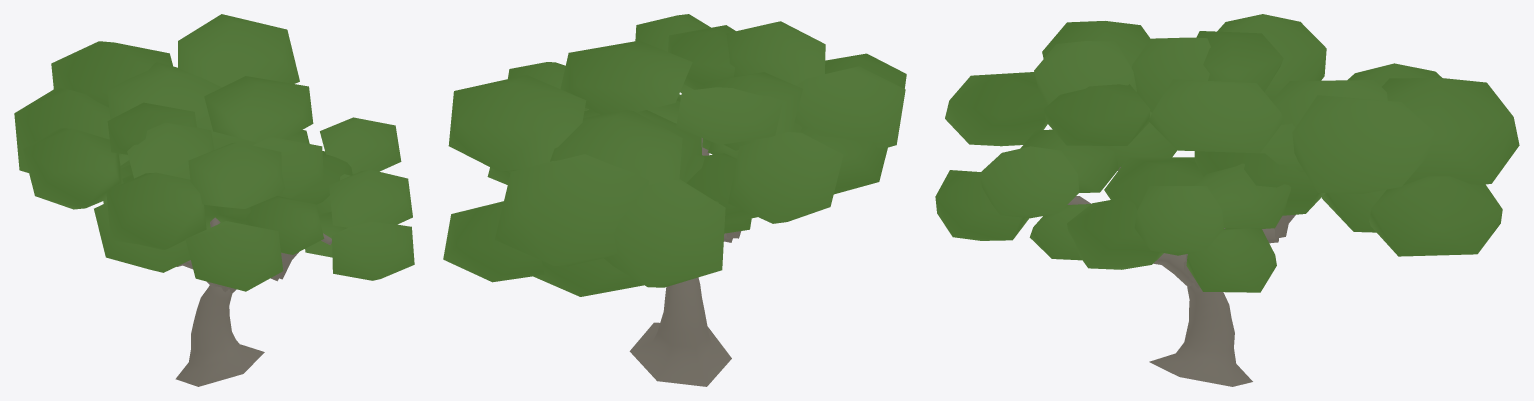
The model's file is Blender_GarryOak_2_Far.glb.
3 views of the same model, side by side, from view 1: azimuth 30°, elevation 25°; view 2: azimuth 150°, elevation 25°; view 3: azimuth 270°, elevation 25° (orthographic). The views are drawn at different scales.
Visible parts, largest first — view 1: Blender_GarryOak_2_Far; view 2: Blender_GarryOak_2_Far; view 3: Blender_GarryOak_2_Far.
Boxes of the visible parts, x1=… form: Blender_GarryOak_2_Far: x1=14, y1=14, x2=414, y2=386; Blender_GarryOak_2_Far: x1=443, y1=14, x2=906, y2=386; Blender_GarryOak_2_Far: x1=935, y1=14, x2=1519, y2=386.
Size of the model in its own units: 13.22 by 11.13 by 17.65.
